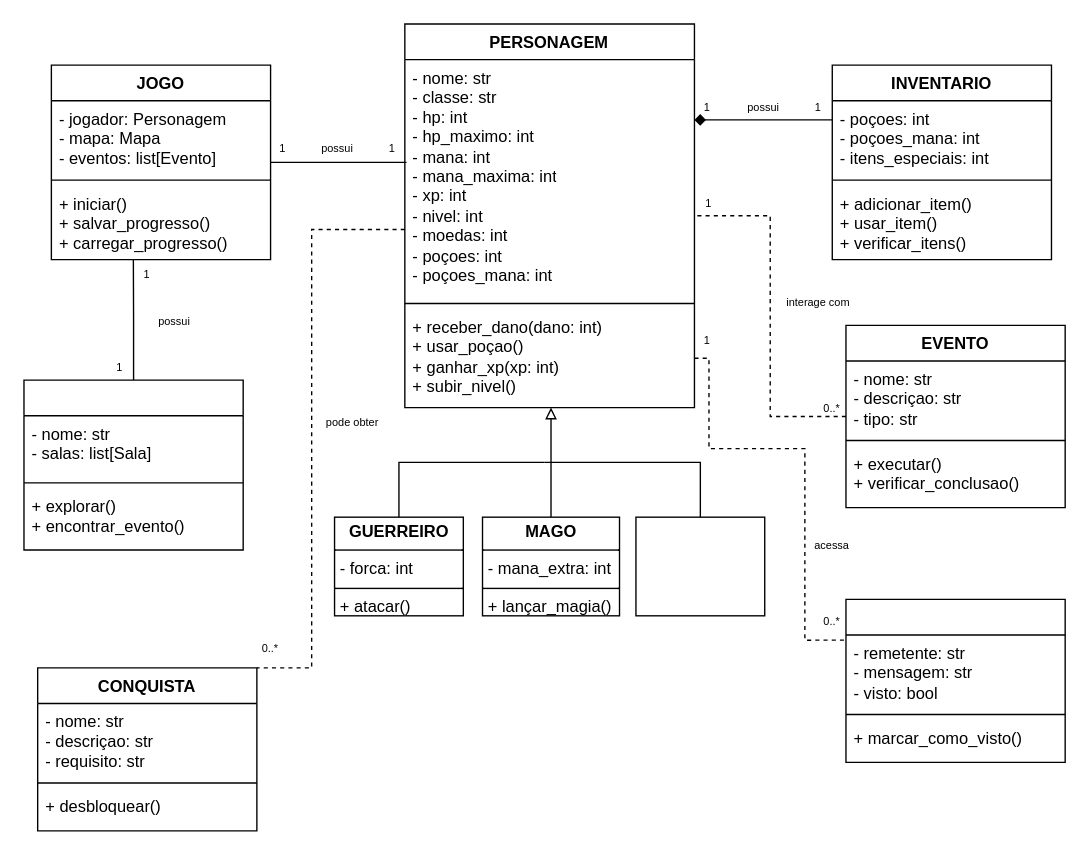
This 1089x859 diagram has some shape labels left out. The shapes that lost their labels are listed below. From the top down, each one's box as (x1, y1, x2, y2) in pixels, then its label:
(23, 379, 243, 550): MAPA
(635, 516, 765, 616): ARQUEIRO - destreza: int + atirar()
(845, 598, 1065, 762): DIALOGO
